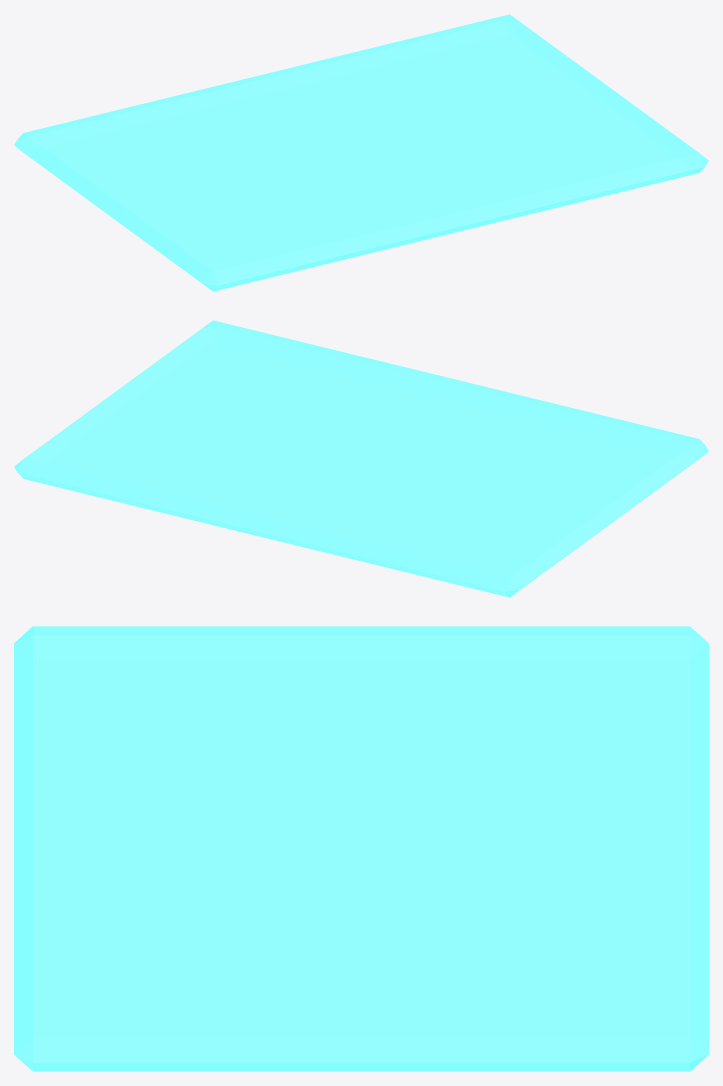
The model's file is glass_energy_panel.glb.
3 views of the same model, one above another, from view 1: azimuth 30°, elevation 25°; view 2: azimuth 150°, elevation 25°; view 3: azimuth 270°, elevation 25° (orthographic). The views are drawn at different scales.
Parts seen in each view (by area): view 1: glass_energy_panel; view 2: glass_energy_panel; view 3: glass_energy_panel.
Part boxes in pixels (x1=…): glass_energy_panel: x1=14, y1=14, x2=708, y2=291; glass_energy_panel: x1=14, y1=320, x2=708, y2=597; glass_energy_panel: x1=14, y1=626, x2=708, y2=1071.
Size of the model in its own units: 1.6 by 0.06 by 1.1.
